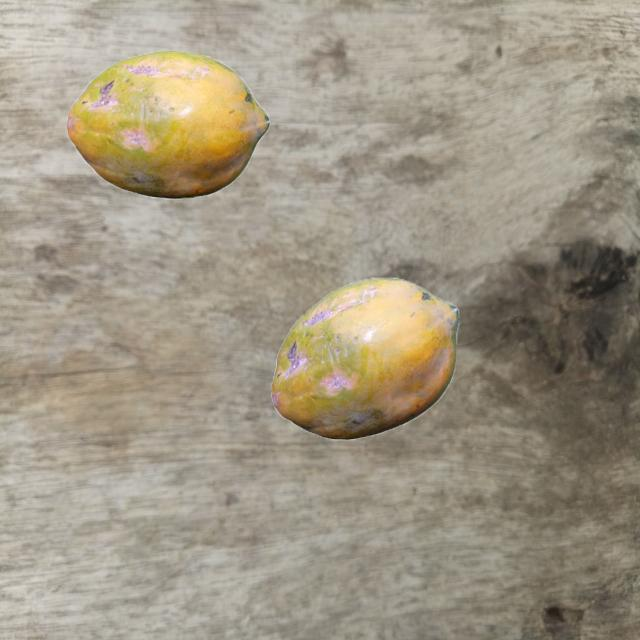Pepaya rippen: (263, 267, 469, 453), (48, 55, 284, 209)
